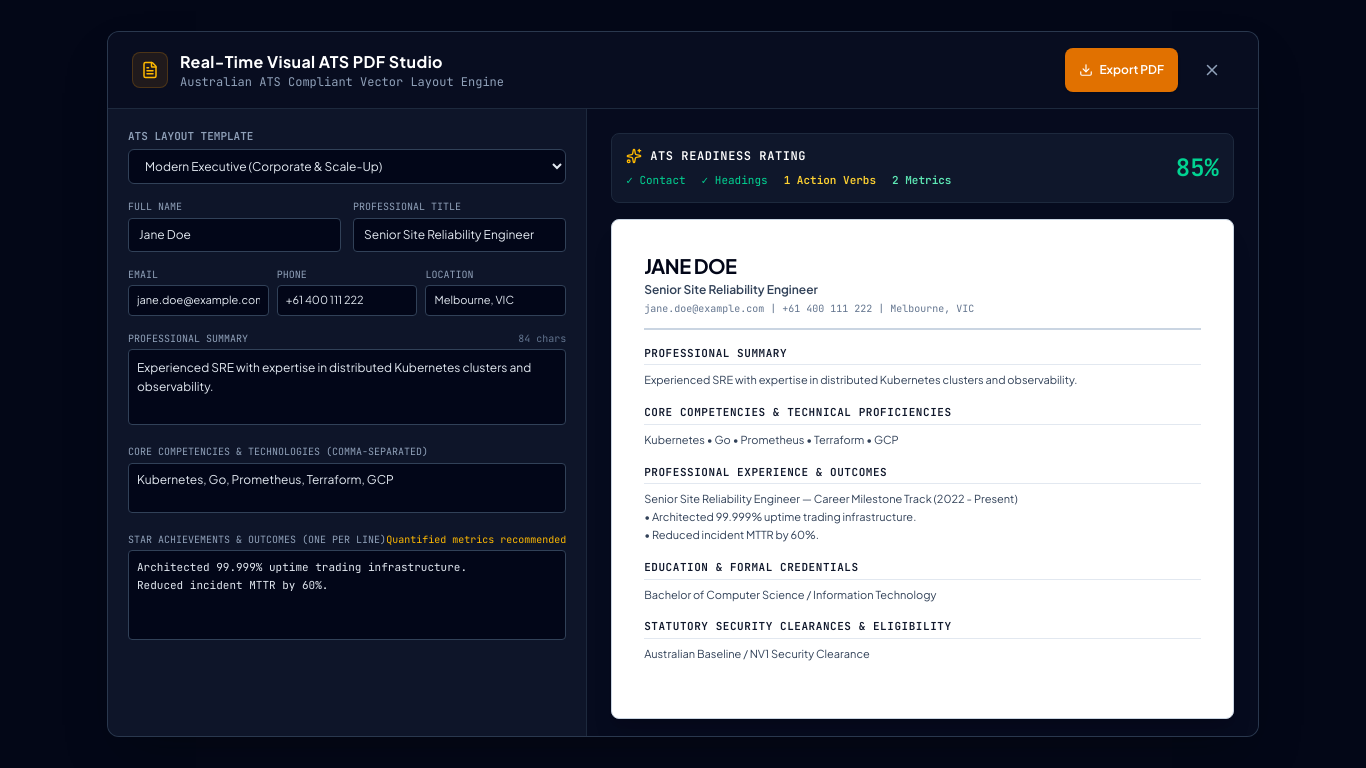
Test: PdfPreviewModal Component › allows switching between ATS templates
Select "Technical Specialist (Skills Matrix & STAR Metrics)" in the dropdown at x=347, y=167, box [128,149,566,184]
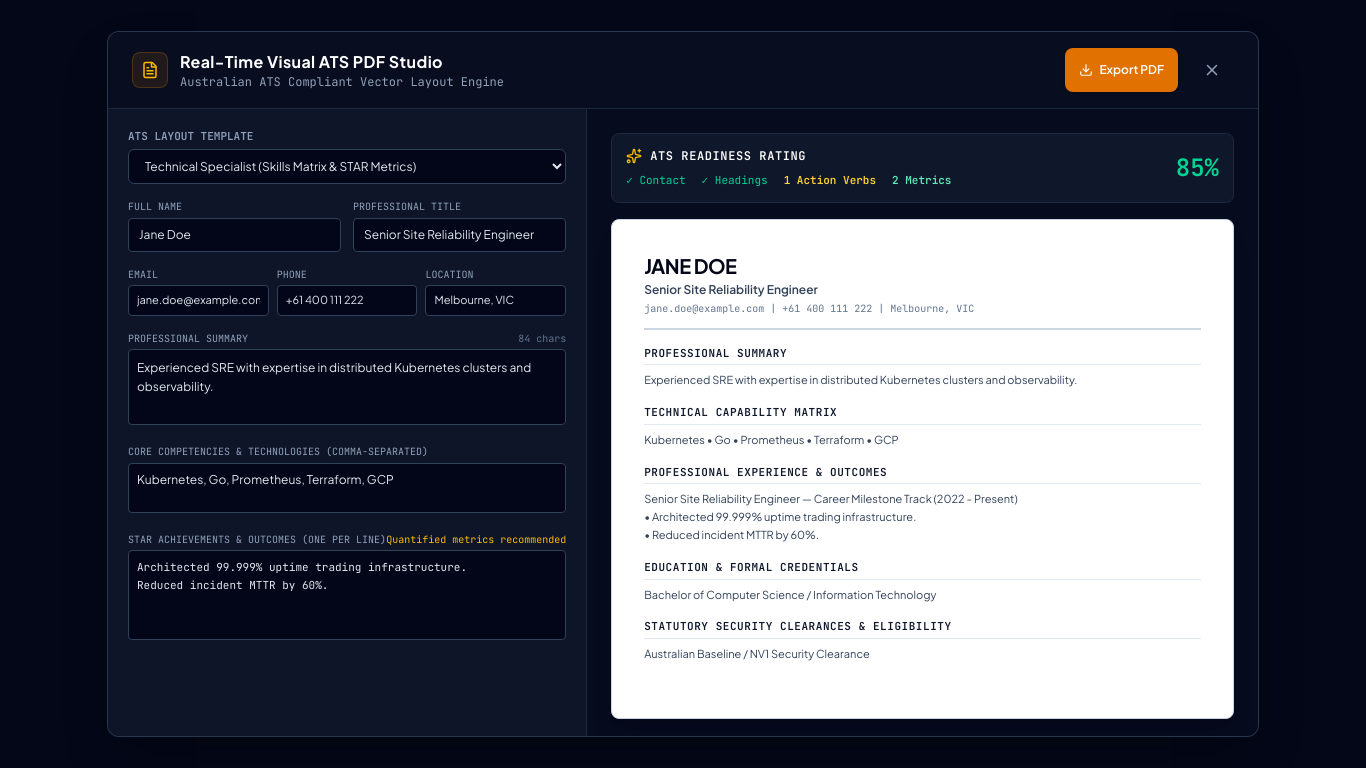
Expected: the heading "TECHNICAL CAPABILITY MATRIX" is shown, [644,405,1201,425]
